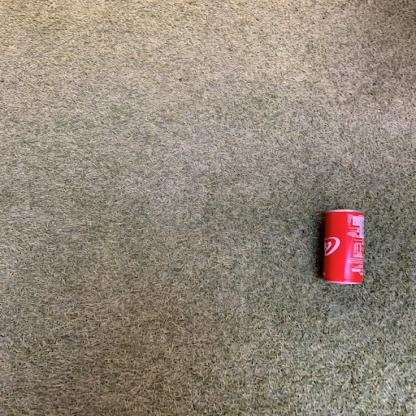trash: (319, 208, 368, 285)
